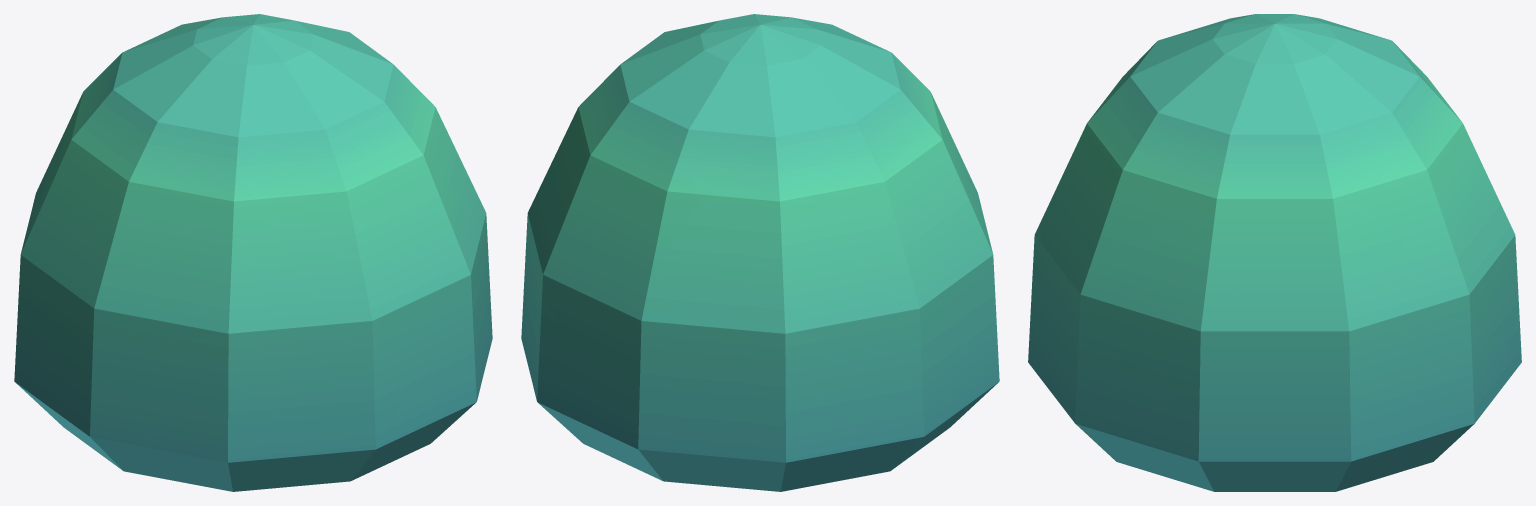
Rendered from bush002.obj.
The picture shows the model from 3 angles, left to right: view 1: azimuth 30°, elevation 25°; view 2: azimuth 150°, elevation 25°; view 3: azimuth 270°, elevation 25°; orthographic projection.
Visible parts, largest first — view 1: bush.002; view 2: bush.002; view 3: bush.002.
Part boxes in pixels (x1,y1,x2,y2): bush.002: (14,14,492,491); bush.002: (521,14,999,491); bush.002: (1028,14,1521,491).
Size of the model in its own units: 3.31 by 3.3 by 3.48.
1 material, 1 textured.
